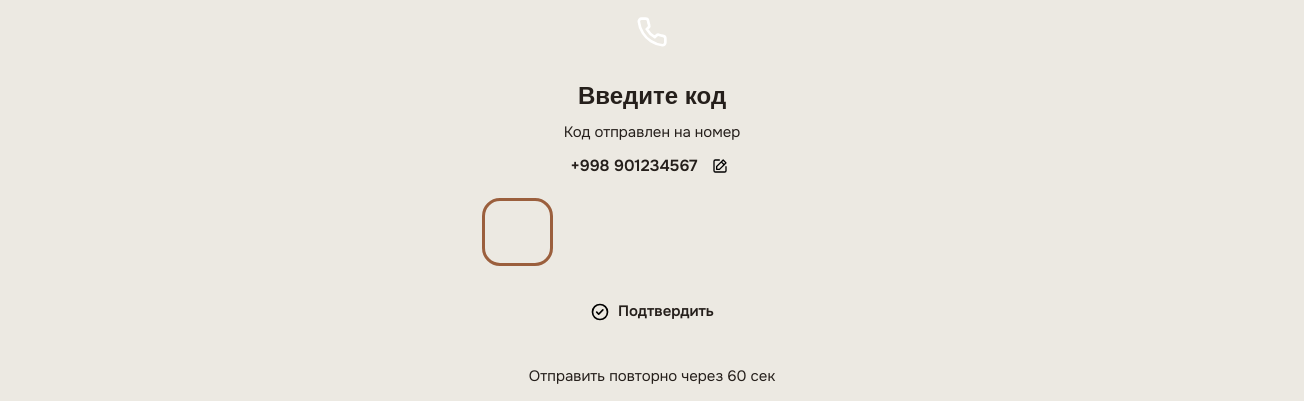
Test: a verified closed account is not signed in until restoration is explicitly confirmed
Later steps or results of the test are not shown.
In the field named "Цифра кода 1": (518,232) [488,204,547,260], type "1"
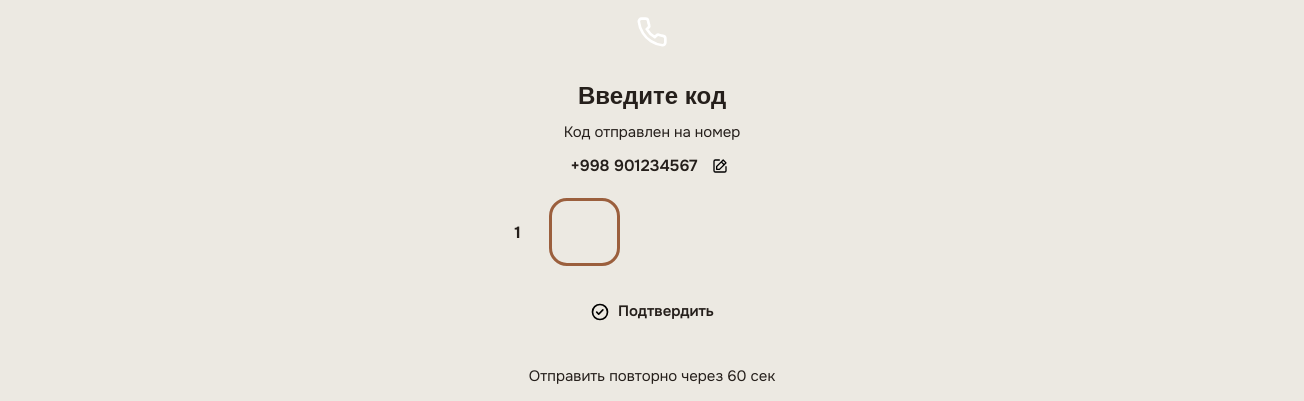
In the field named "Цифра кода 2": (585,232) [555,204,614,260], type "2"
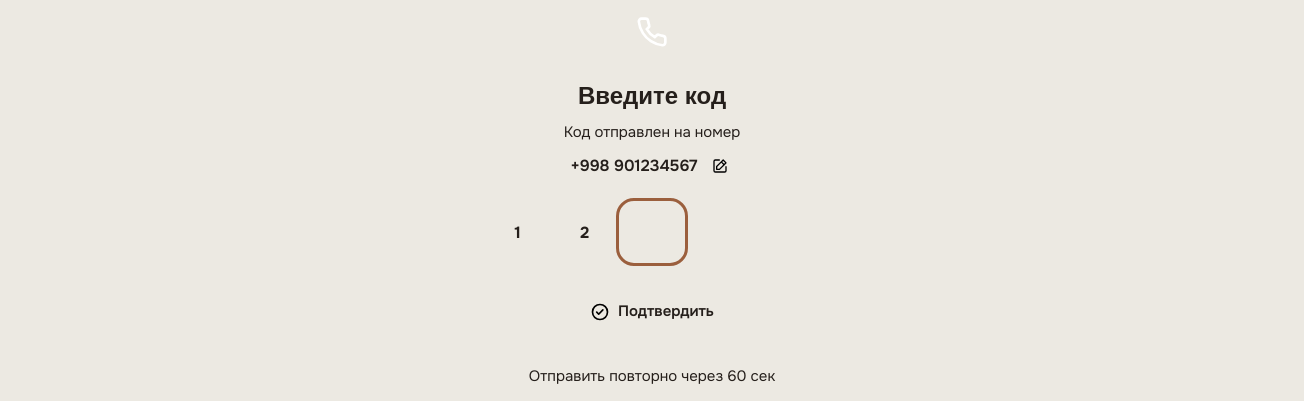
In the field named "Цифра кода 3": (652,232) [622,204,682,260], type "3"
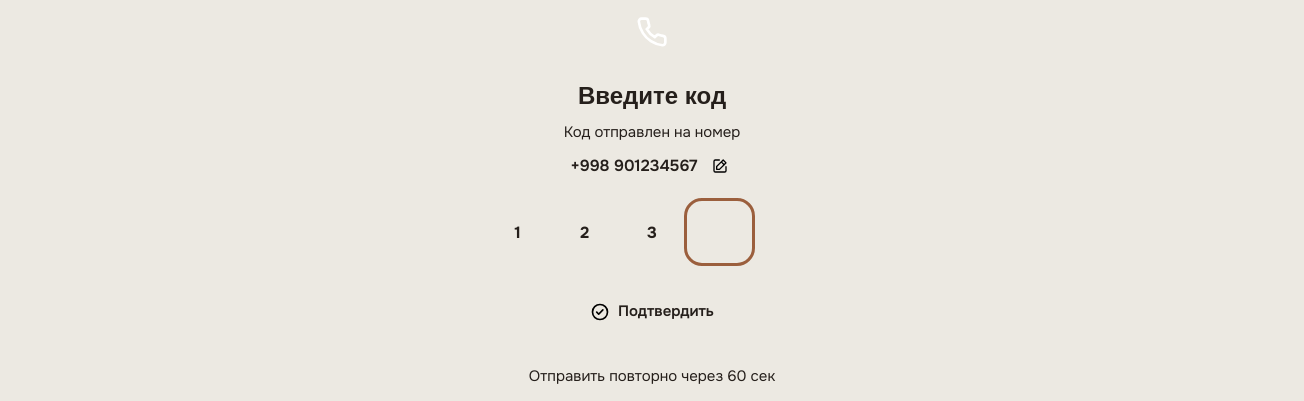
In the field named "Цифра кода 4": (719,232) [690,204,749,260], type "4"
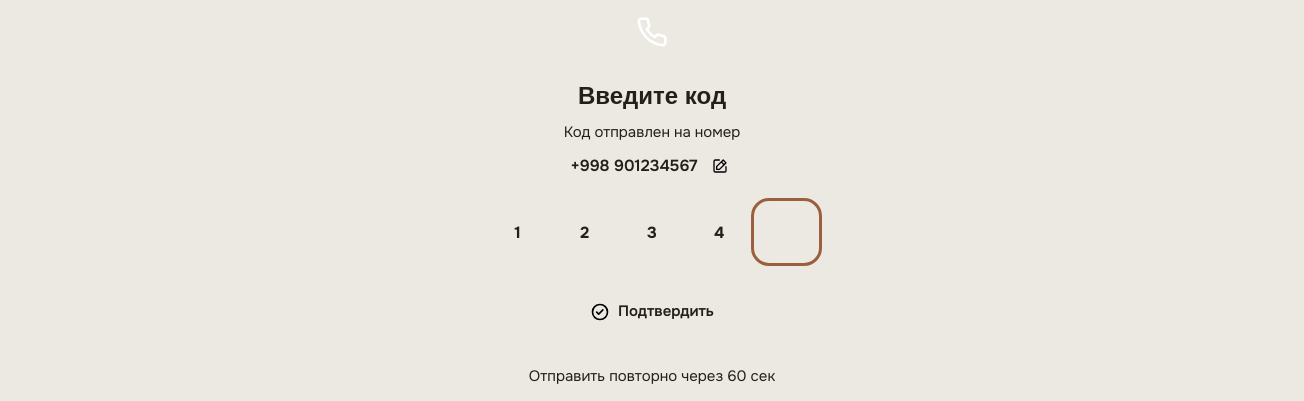
In the field named "Цифра кода 5": (786,232) [757,204,816,260], type "5"
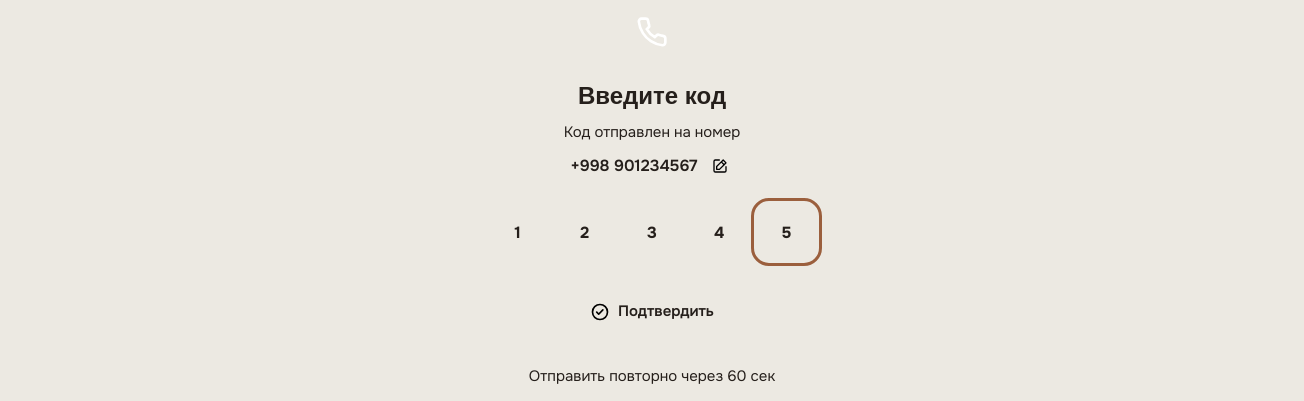
Click the button "Подтвердить": (652,312) [12,284,1292,340]
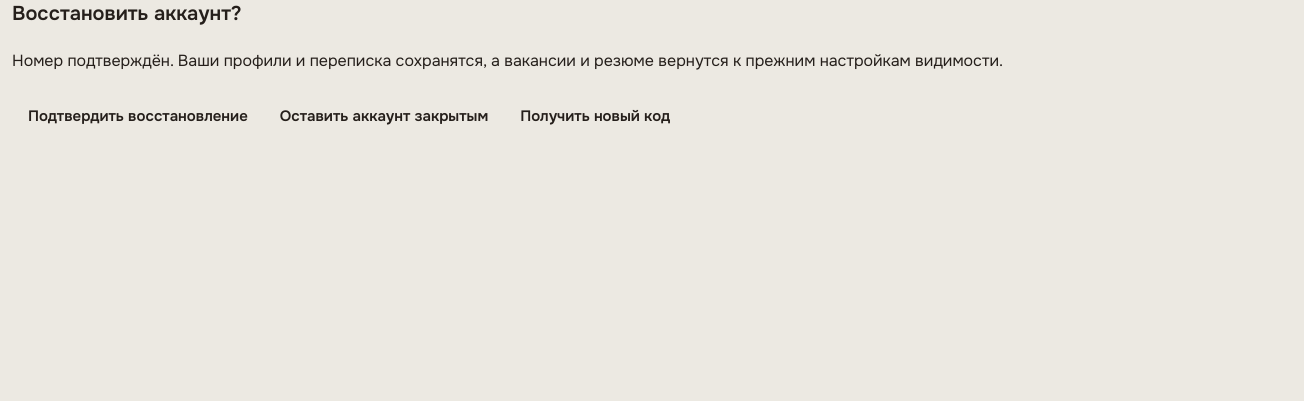
Check: the heading "Восстановить аккаунт?" is shown, box [12,1,242,26]
